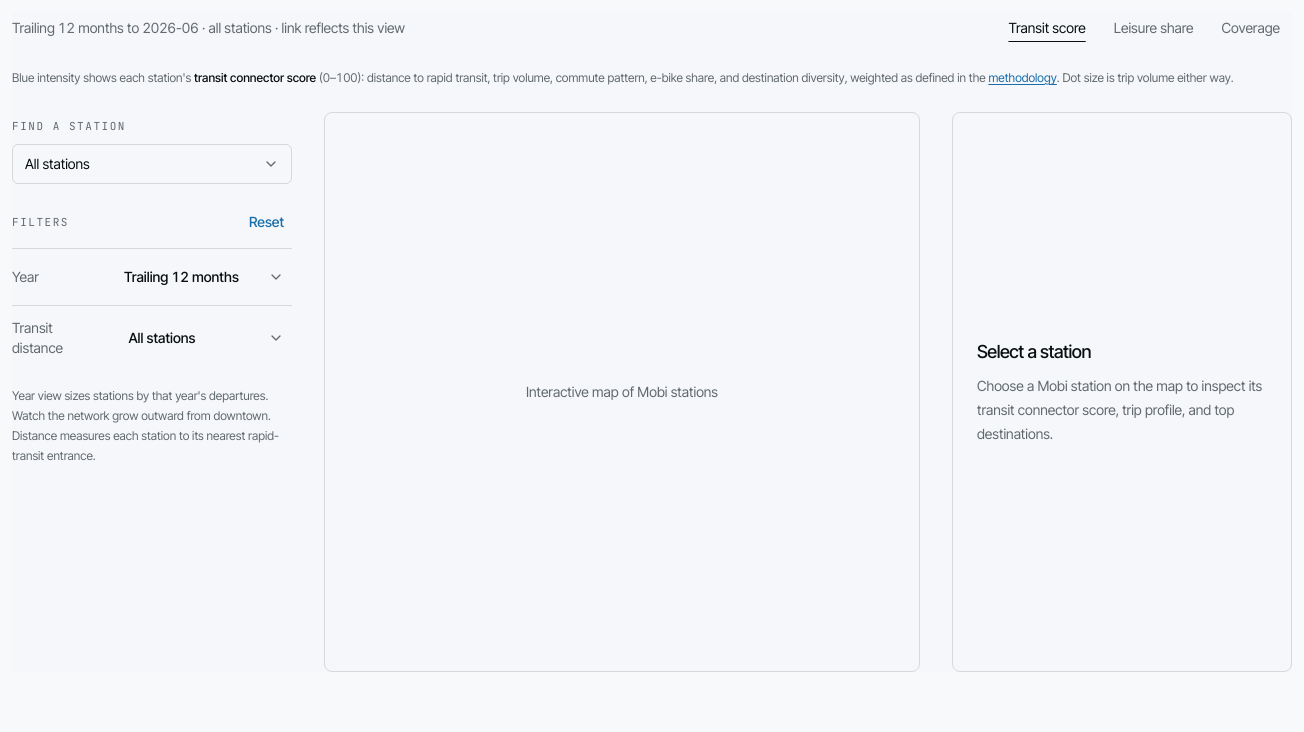
Test: Explorer › reset returns to the trailing window
Click the dropdown named "Year" at (204, 277), box [116,261,292,293]
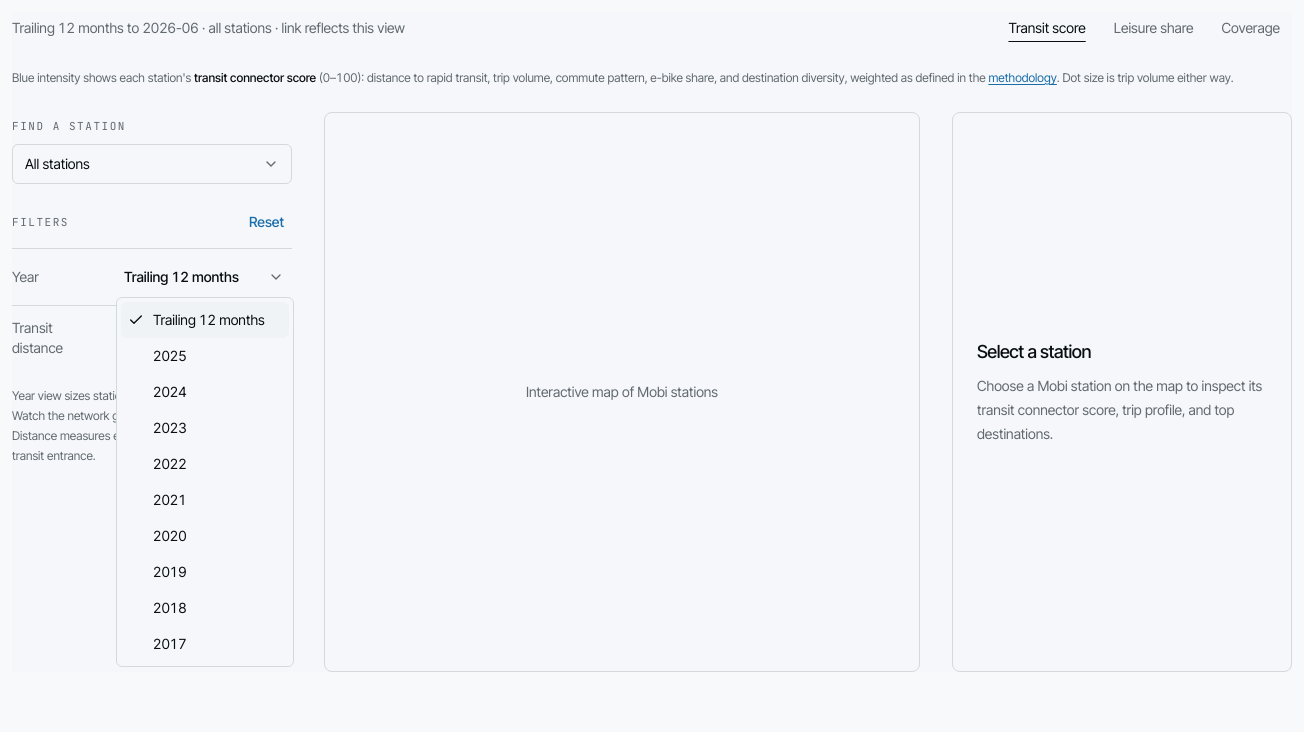
Click the option "2021" at (170, 500), box [153,491,187,508]
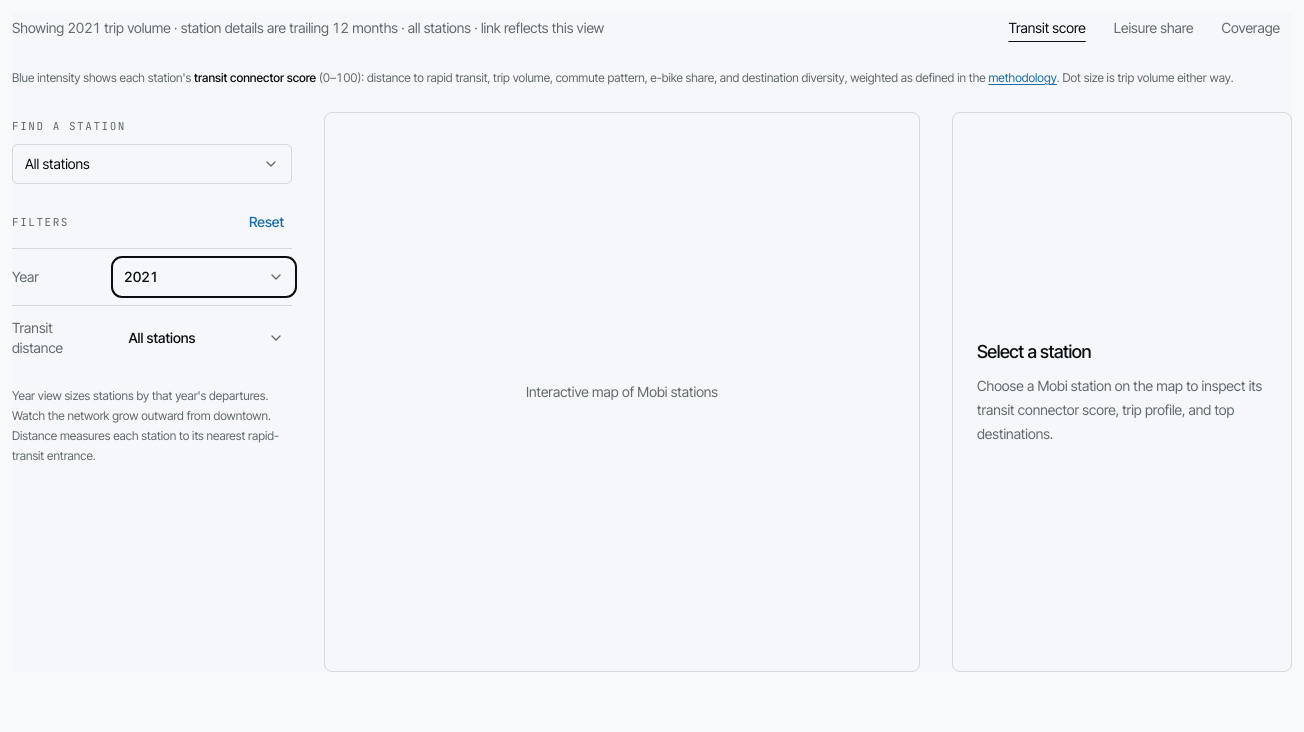
Click the button with aria-label "Reset filters" at (266, 222), box [241,208,292,236]
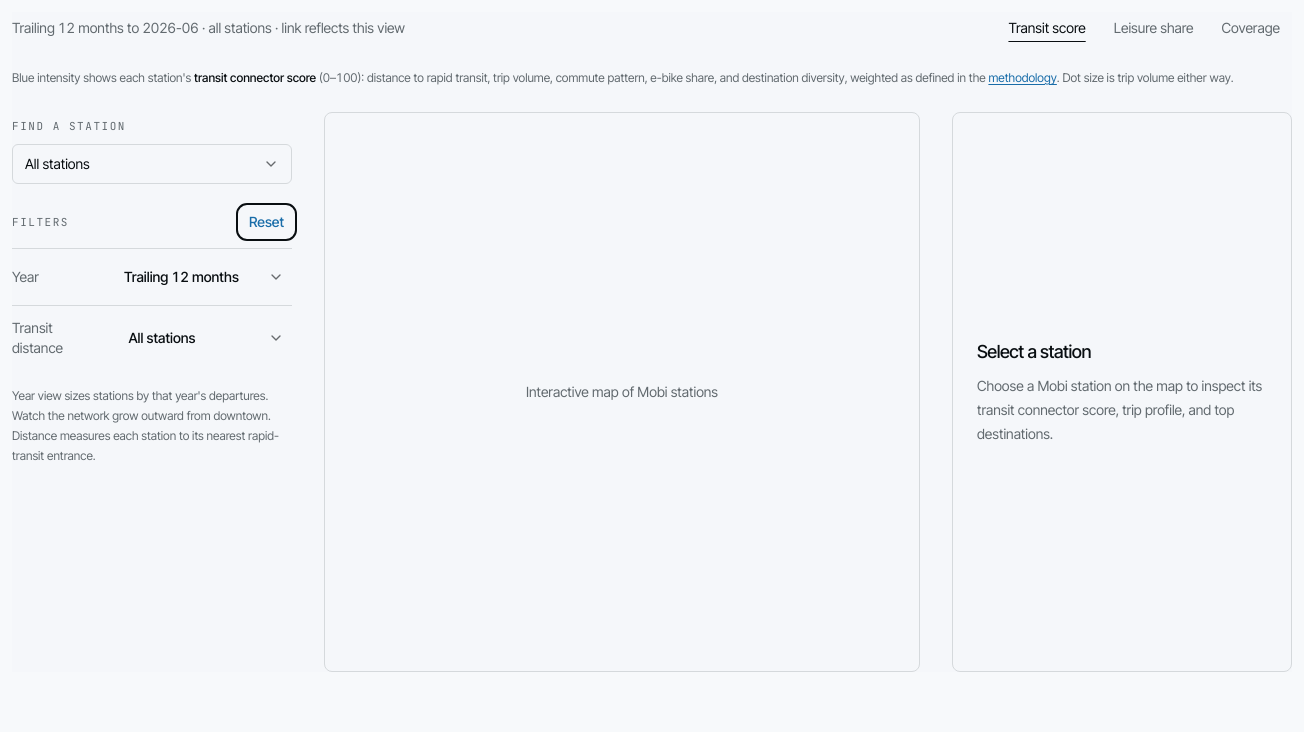
expect the text "Trailing 12 months to 2026-06" is shown: met, box [12,19,199,36]
